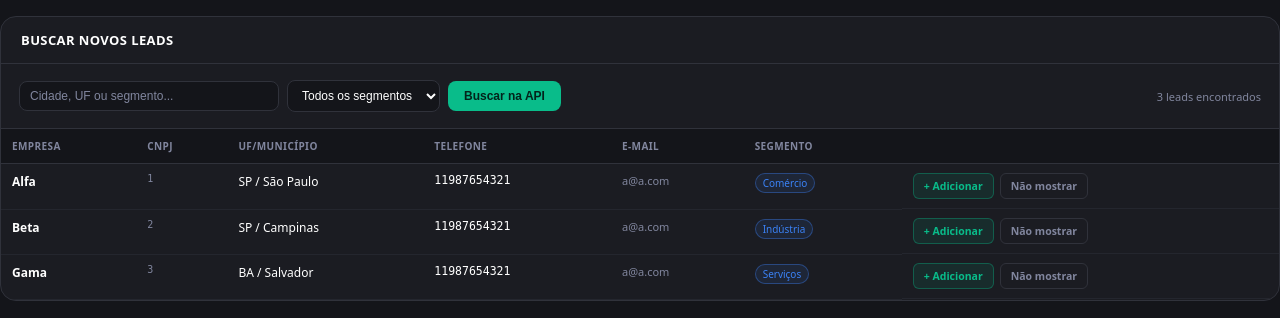
Test: NewLeadsTable › filtra por texto (segmento) case-insensitive
The image size is (1280, 318).
Type "serviços" into the field with placeholder "Cidade, UF ou segmento..." at (149, 96), box [19,81,279,111]
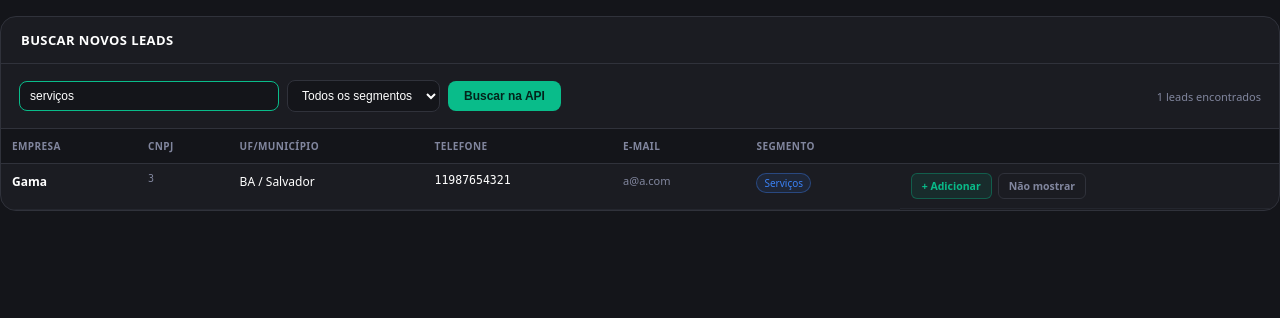
Expected: the text "Gama" is shown, [12,173,47,190]
Result: the text "Alfa" is gone
Result: the text "Beta" is gone
